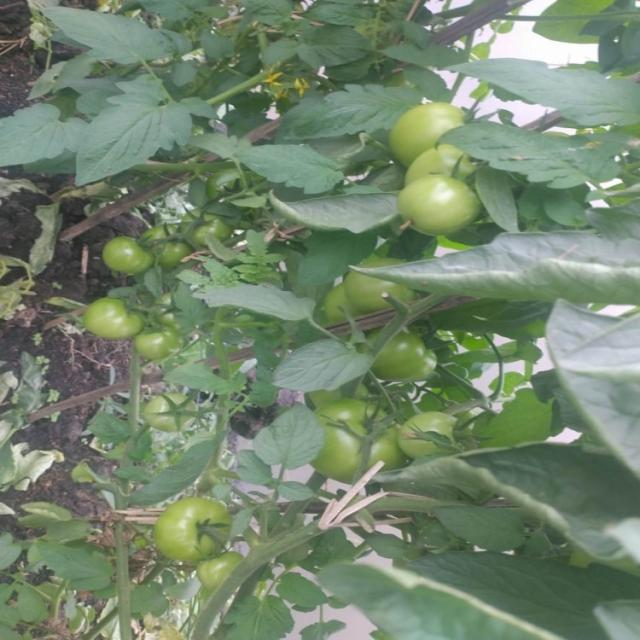tomato: (395, 174, 494, 243), (308, 396, 393, 476), (388, 92, 478, 161), (365, 328, 453, 396), (160, 495, 241, 568), (83, 292, 148, 355), (138, 392, 209, 445), (392, 410, 460, 462), (105, 230, 161, 282), (406, 145, 475, 186), (146, 292, 199, 340), (341, 269, 412, 302), (317, 280, 372, 321), (180, 206, 232, 245), (153, 236, 207, 273), (133, 319, 178, 363), (192, 551, 227, 595)
